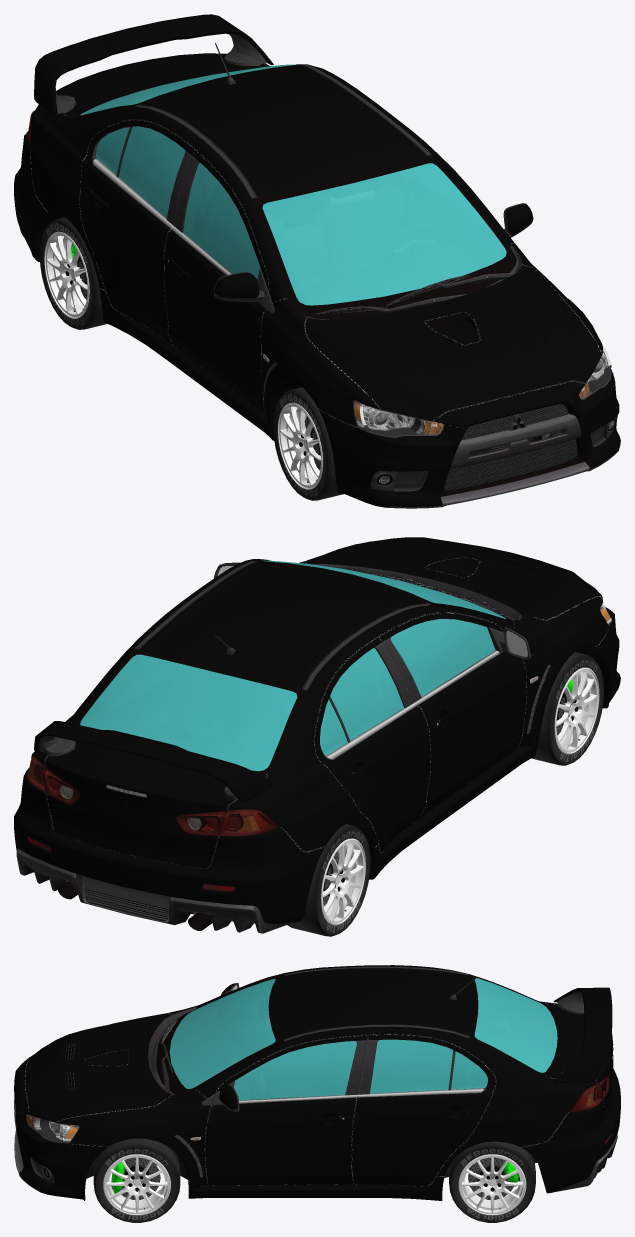
File: evo.glb
The picture shows the model from 3 angles, top to bottom: view 1: azimuth 30°, elevation 25°; view 2: azimuth 150°, elevation 25°; view 3: azimuth 270°, elevation 25°; orthographic projection. The views are drawn at different scales.
Visible parts, largest first — view 1: Model::Base.001; view 2: Model::Base.001; view 3: Model::Base.001.
Boxes of the visible parts, x1=… form: Model::Base.001: x1=14, y1=14, x2=620, y2=508; Model::Base.001: x1=14, y1=537, x2=620, y2=936; Model::Base.001: x1=14, y1=965, x2=620, y2=1222.
Size of what is drawn, in the model's own units: 6.18 by 4.82 by 13.52.
34 materials, 21 textured.
